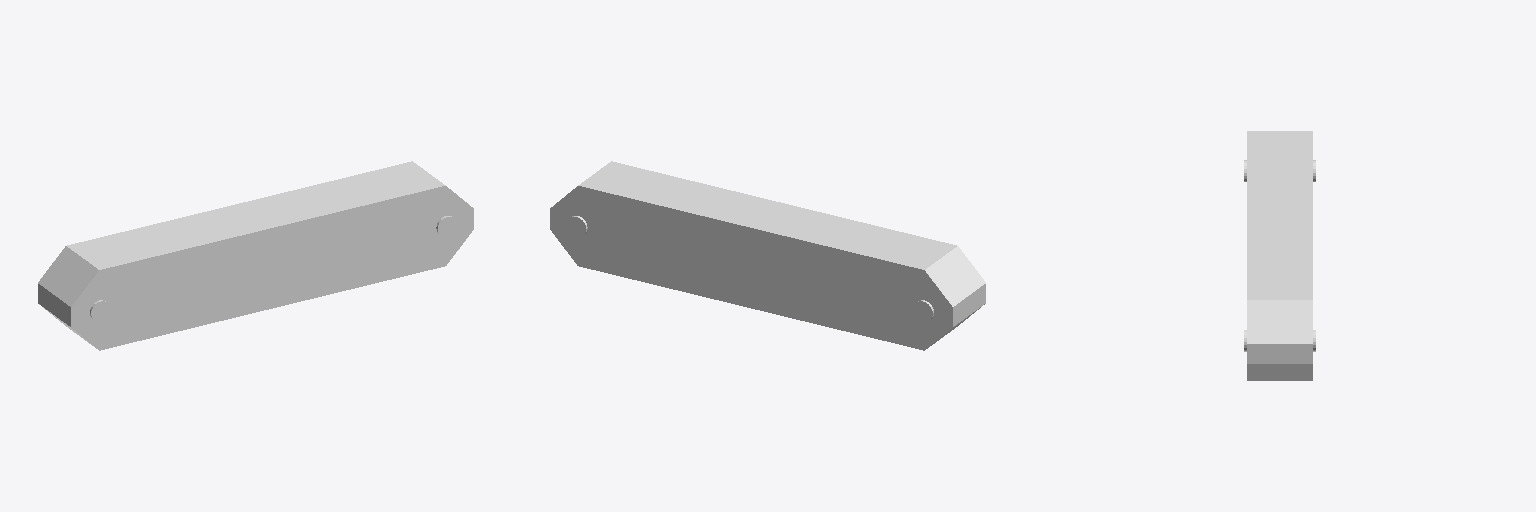
The model's file is painted.obj.
3 renders of one model, left to right at view 1: azimuth 30°, elevation 25°; view 2: azimuth 150°, elevation 25°; view 3: azimuth 270°, elevation 25°, orthographic.
Visible parts, largest first — view 1: obj_0; view 2: obj_0; view 3: obj_0.
Part boxes in pixels (x1,y1,x2,y2): obj_0: (38,161,473,350); obj_0: (550,161,985,350); obj_0: (1244,131,1315,380).
Size of the model in its own units: 266 by 50.8 by 41.27.